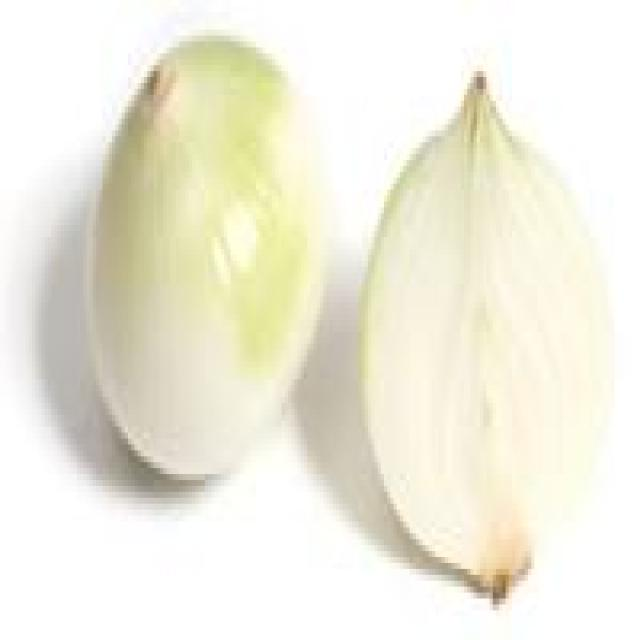onion: (77, 24, 624, 598)
